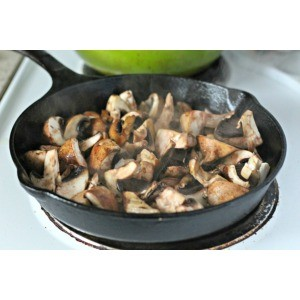mushroom_brain food: (62, 102, 202, 182)
